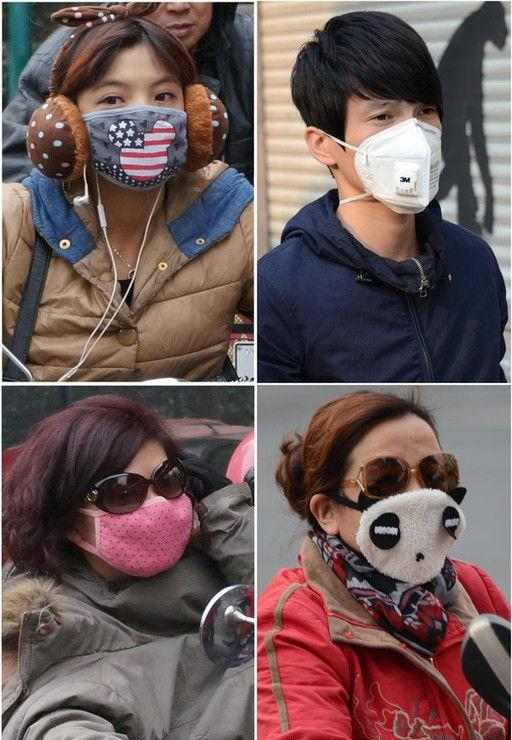OK: (352, 457, 460, 573), (90, 455, 191, 578), (344, 94, 448, 207), (85, 72, 188, 186)
